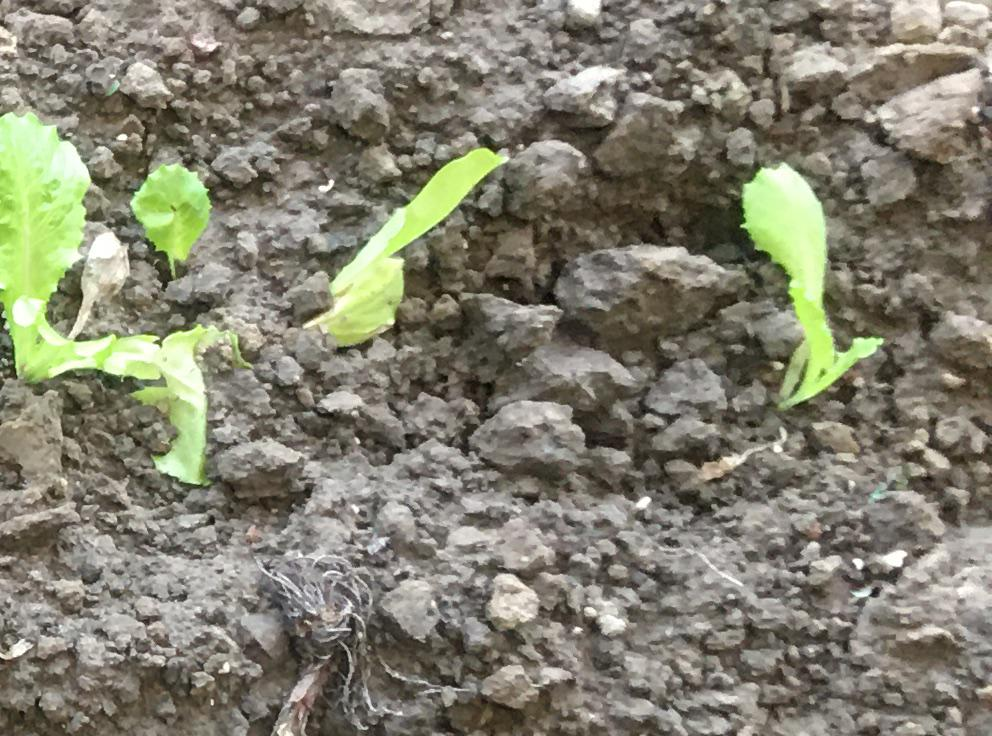block: (552, 245, 737, 344), (465, 399, 595, 486)
